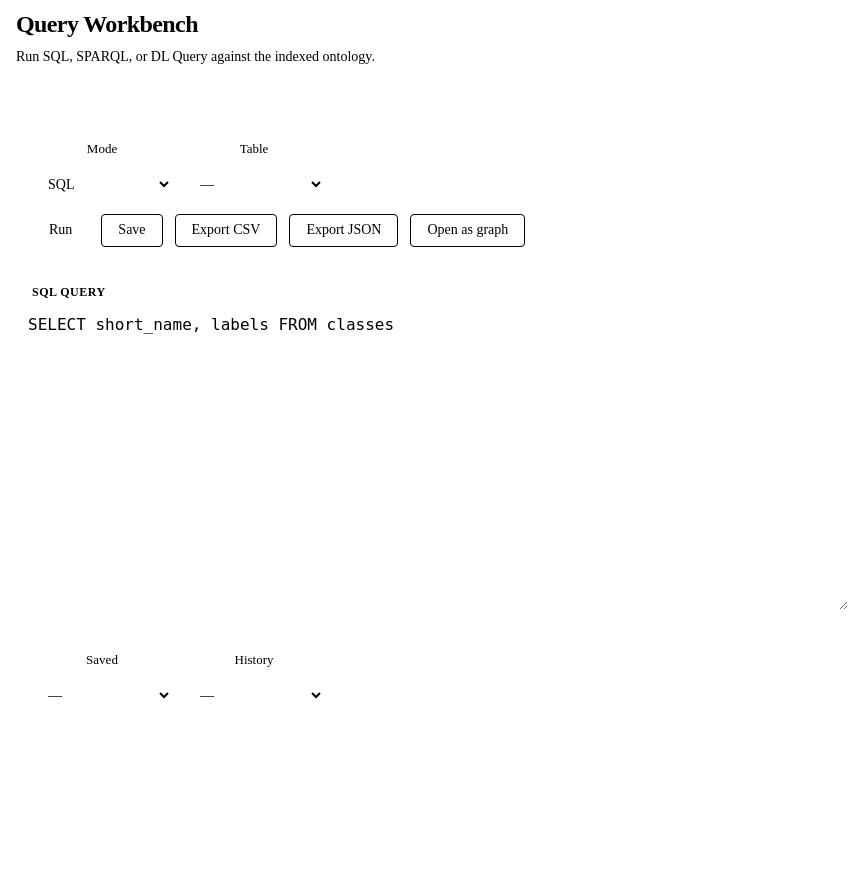
Scenario: QueryWorkbenchPanel › shows truncated results banner
Click the button "Run".
click(61, 231)  # box x1=32 y1=214 x2=89 y2=247
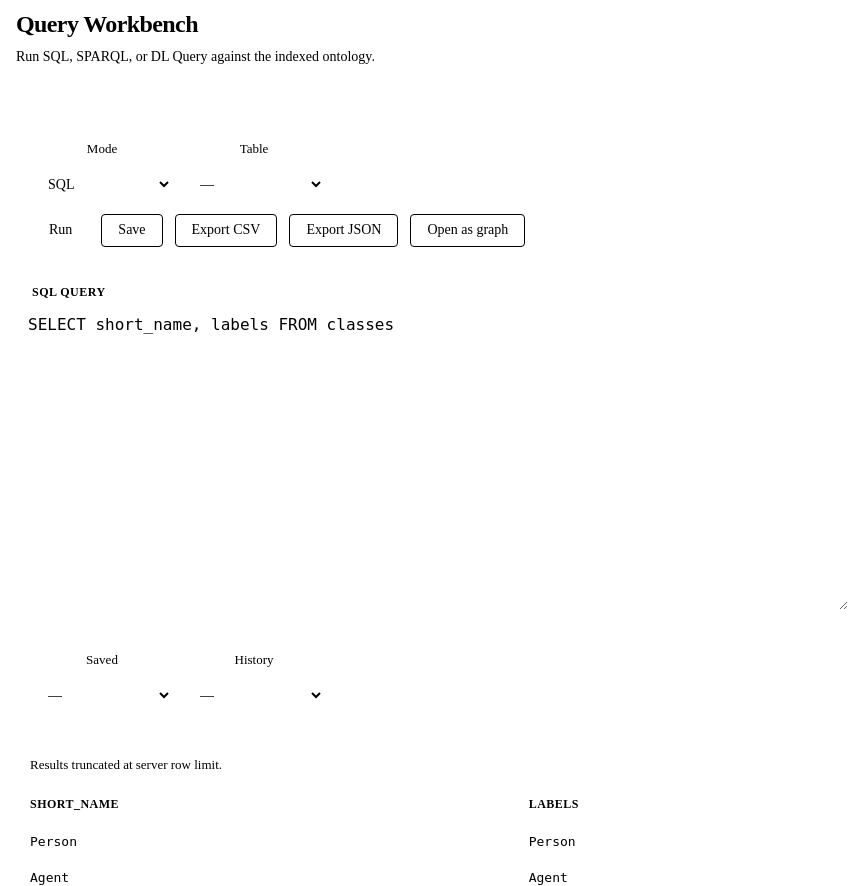
Expected: the text "Results truncated at server row limit." is shown, x1=30 y1=757 x2=222 y2=772
